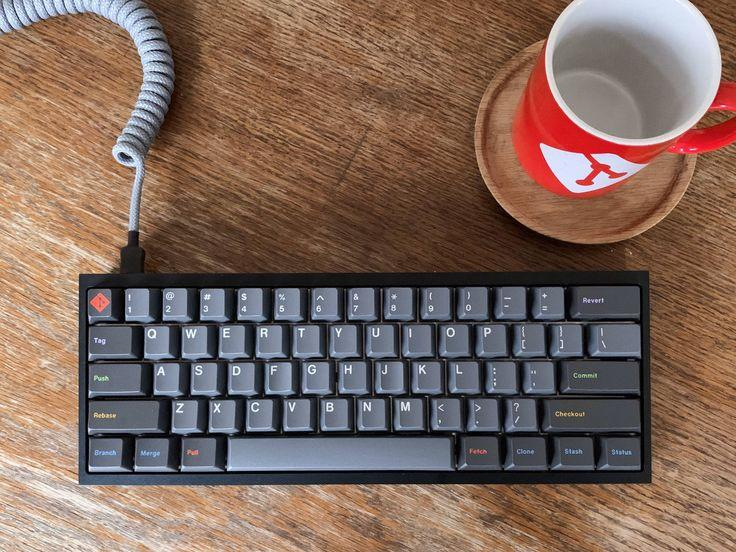keyboard: (77, 269, 651, 485)
